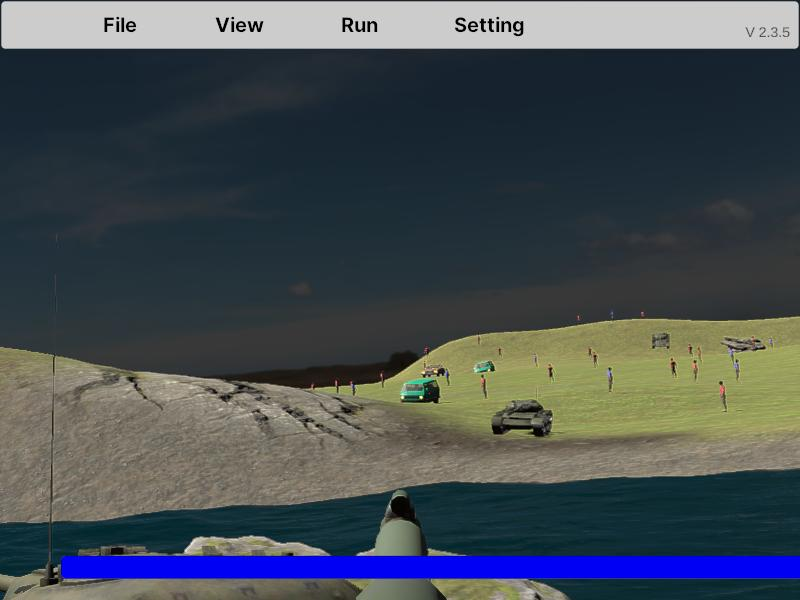Tank: (491, 398, 553, 437)
car: (400, 378, 441, 407)
